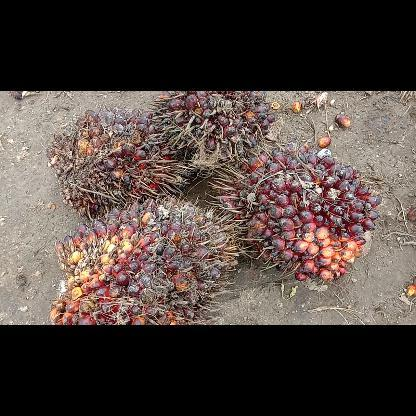TBS masak: (48, 194, 238, 324), (208, 144, 380, 280), (44, 106, 192, 218), (152, 91, 274, 167)
